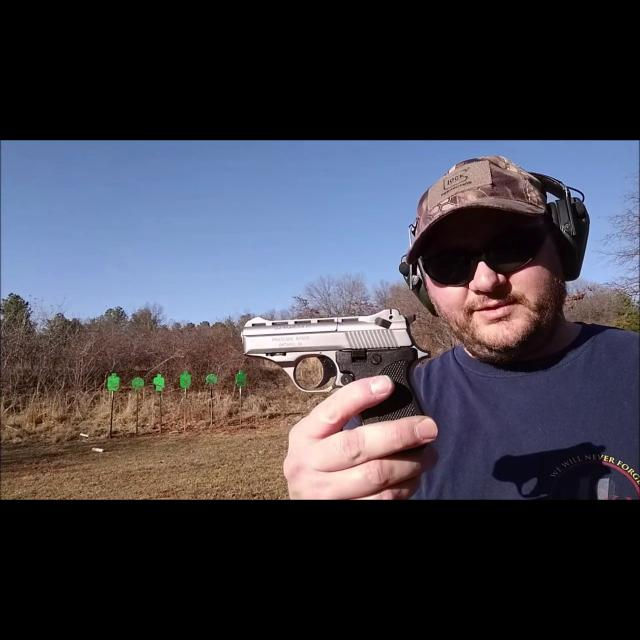handgun: (238, 306, 437, 394)
